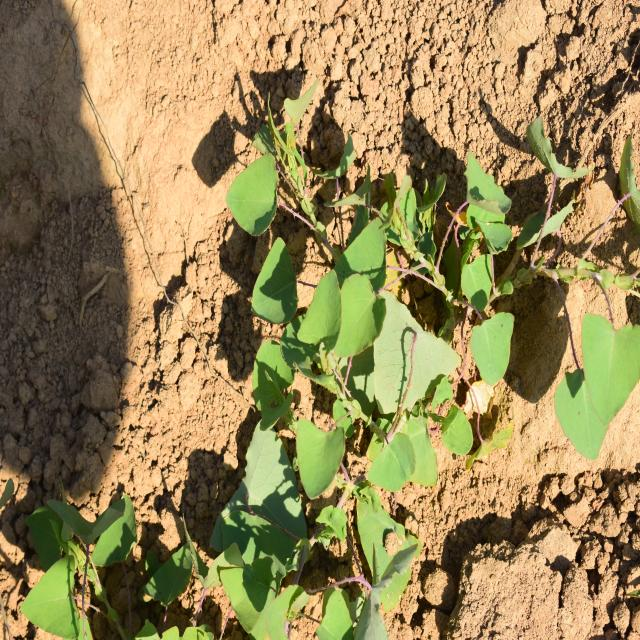Asiatic_Smartweed: (247, 227, 409, 493), (218, 75, 338, 237), (438, 140, 514, 384), (535, 288, 640, 461)
